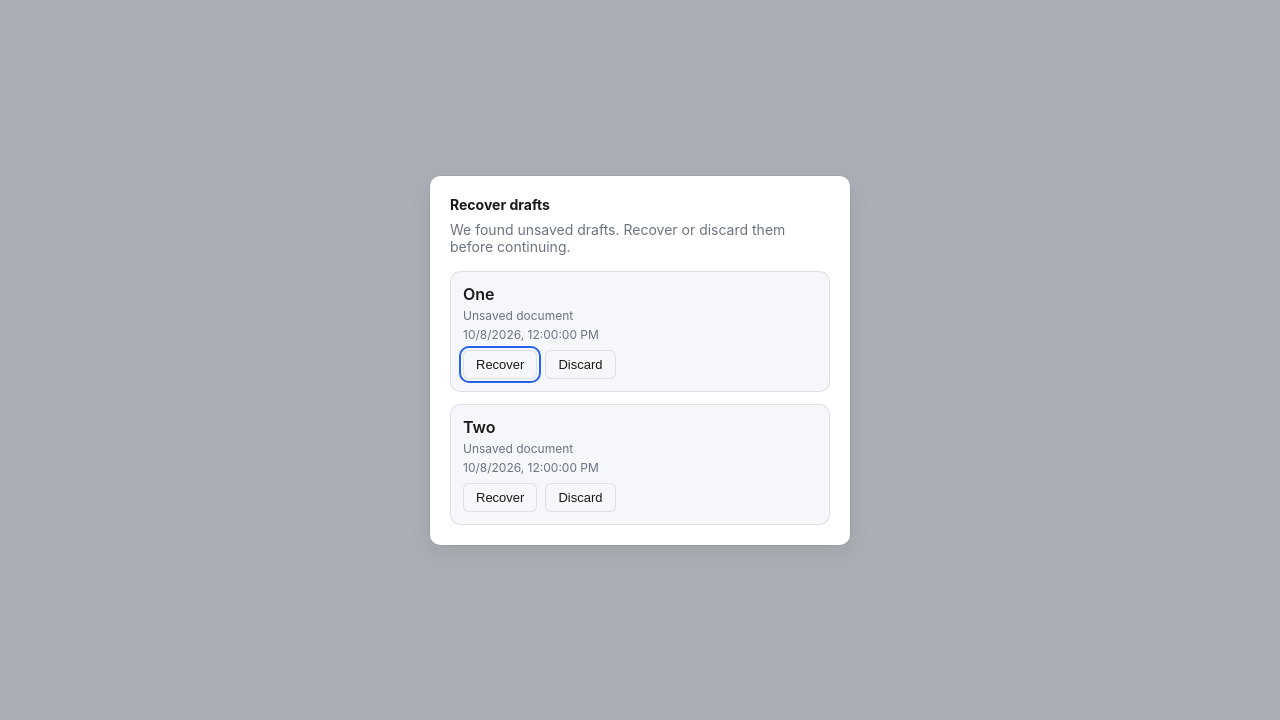
Scenario: AppDialogs (D42 WI-3) › 3.3: Recovery 'Discard' on the second draft drops only that draft
This screenshot has width=1280, height=720.
Click the button "Discard" below "Two": (580, 497) [545,482,616,512]
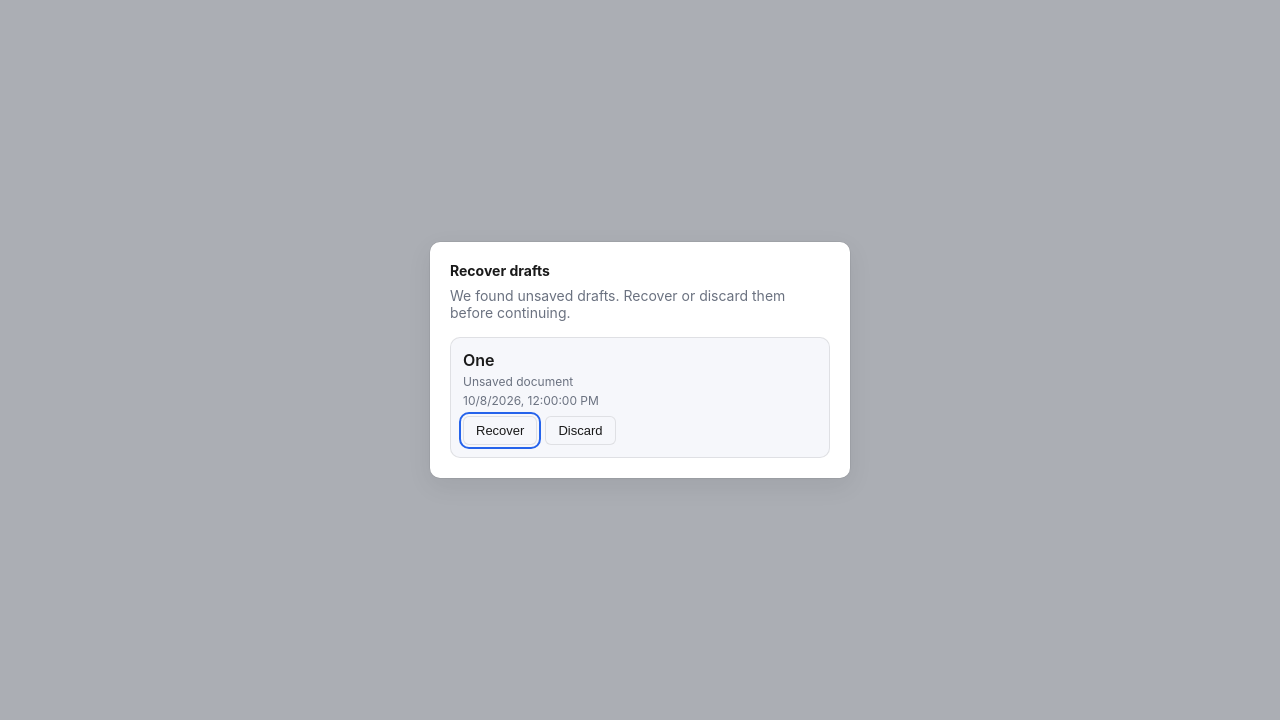
expect the text "One" is shown: met, box [463,350,494,370]
expect the text "Two" is gone: met
